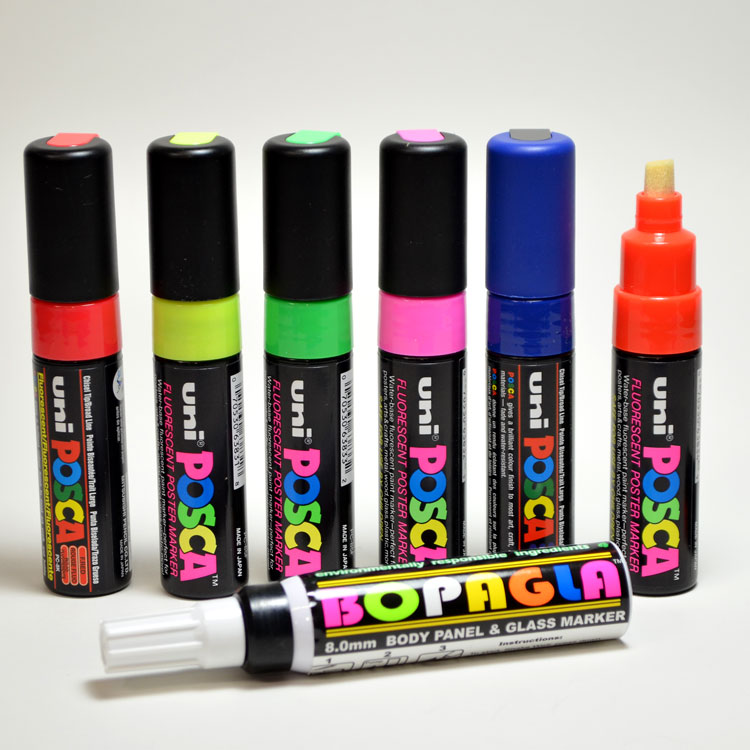Nonrec_Other: (85, 527, 633, 688), (16, 116, 146, 597), (136, 112, 254, 597), (253, 109, 369, 571), (611, 102, 708, 598), (480, 94, 579, 540), (381, 111, 471, 553)
